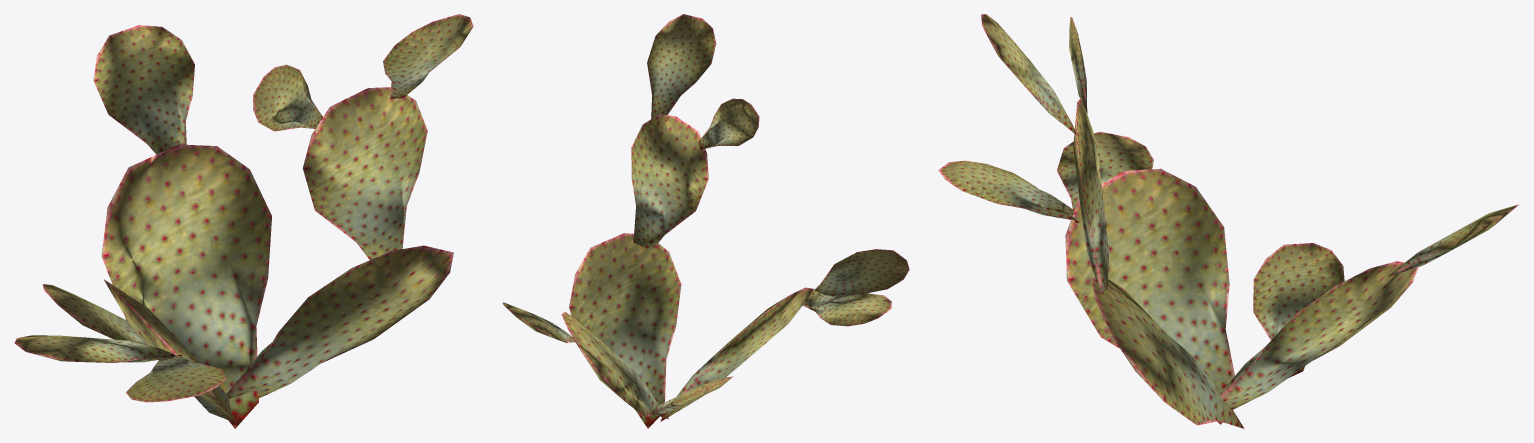
The model's file is CactusC.glb.
3 renders of one model, left to right at view 1: azimuth 30°, elevation 25°; view 2: azimuth 150°, elevation 25°; view 3: azimuth 270°, elevation 25°, orthographic. The views are drawn at different scales.
Parts seen in each view (by area): view 1: cactus_03; view 2: cactus_03; view 3: cactus_03.
Part boxes in pixels (left/top/right/bottom): cactus_03: left=14, top=14, right=473, bottom=428; cactus_03: left=502, top=14, right=909, bottom=428; cactus_03: left=938, top=14, right=1518, bottom=428.
Size of the model in its own units: 29.14 by 30.2 by 35.91.
1 material, 1 textured.
